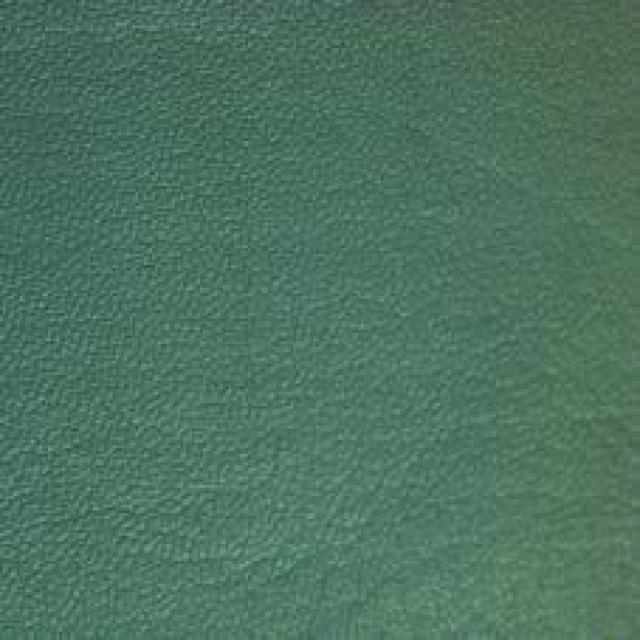Growth Marks: (148, 476, 442, 620), (427, 117, 605, 256)
